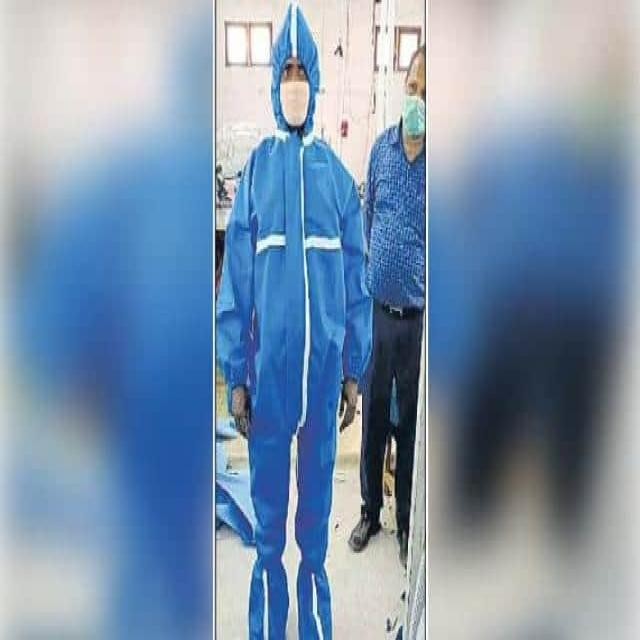Coverall: (222, 4, 366, 638)
Mask: (270, 75, 323, 133)
